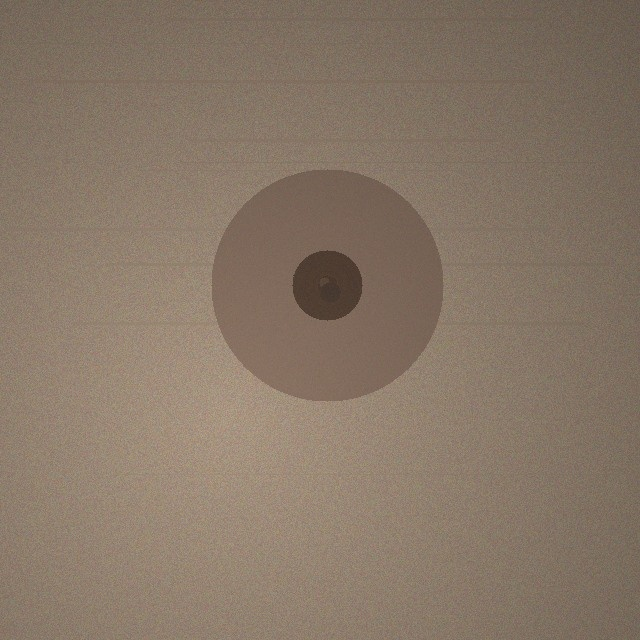cold_weld: (211, 169, 443, 401)
